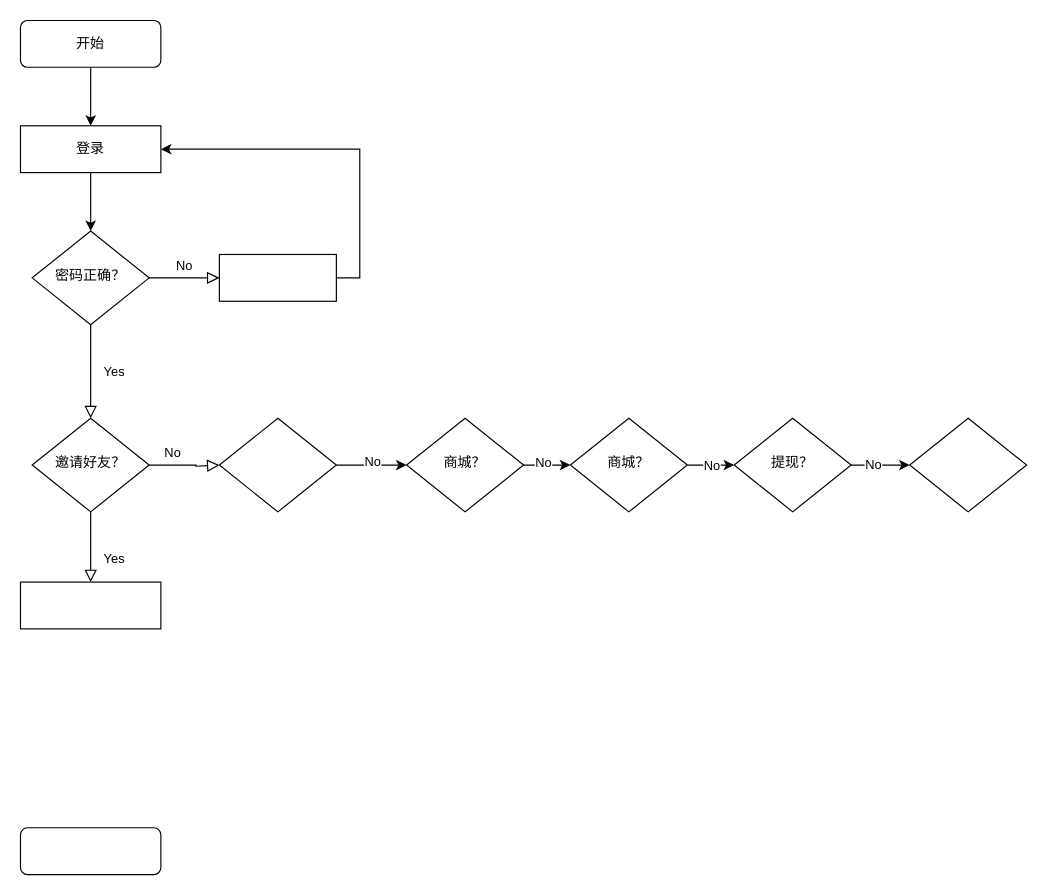
Image size: 1047x895. Some labels were removed from this diagram. Here are the shapes that lost their labels. From the top down, the centre of each, then its label:
At pixel 277 277: "提示密码错误".
At pixel 277 464: "偷菜？".
At pixel 968 464: "背包？".
At pixel 90 851: "结束".
